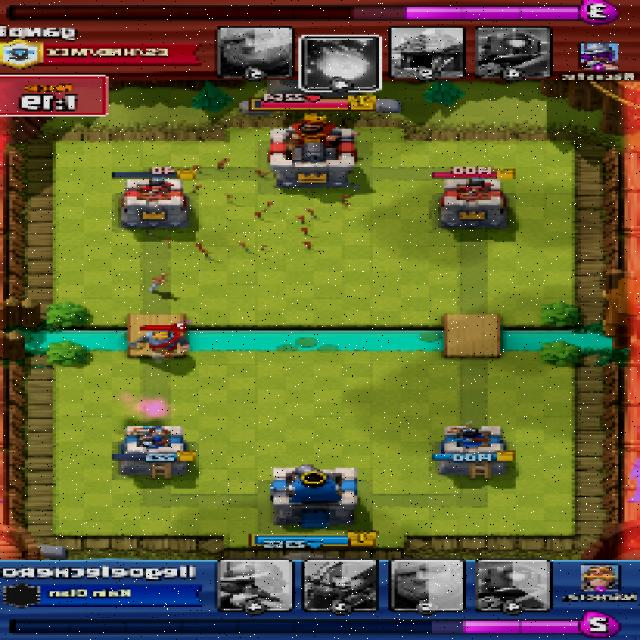Enemy-Knight: (131, 330, 188, 356)
Player-Arrow: (147, 161, 341, 257)
